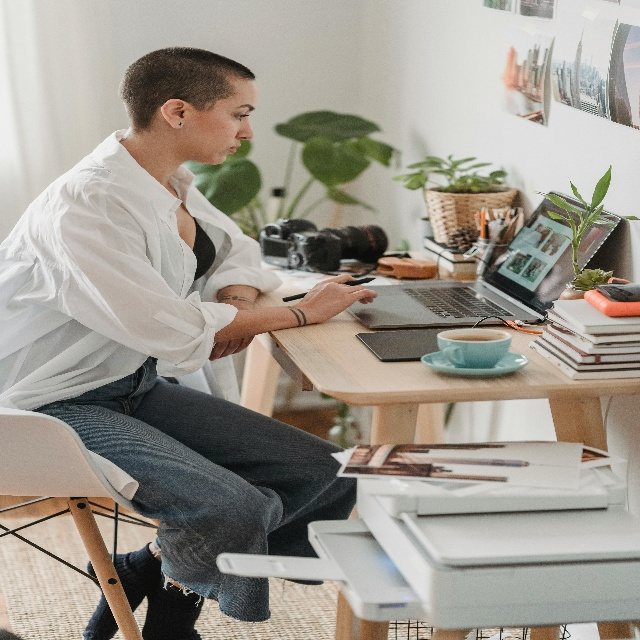Sin_guantes: (300, 273, 377, 323), (209, 335, 253, 361)
